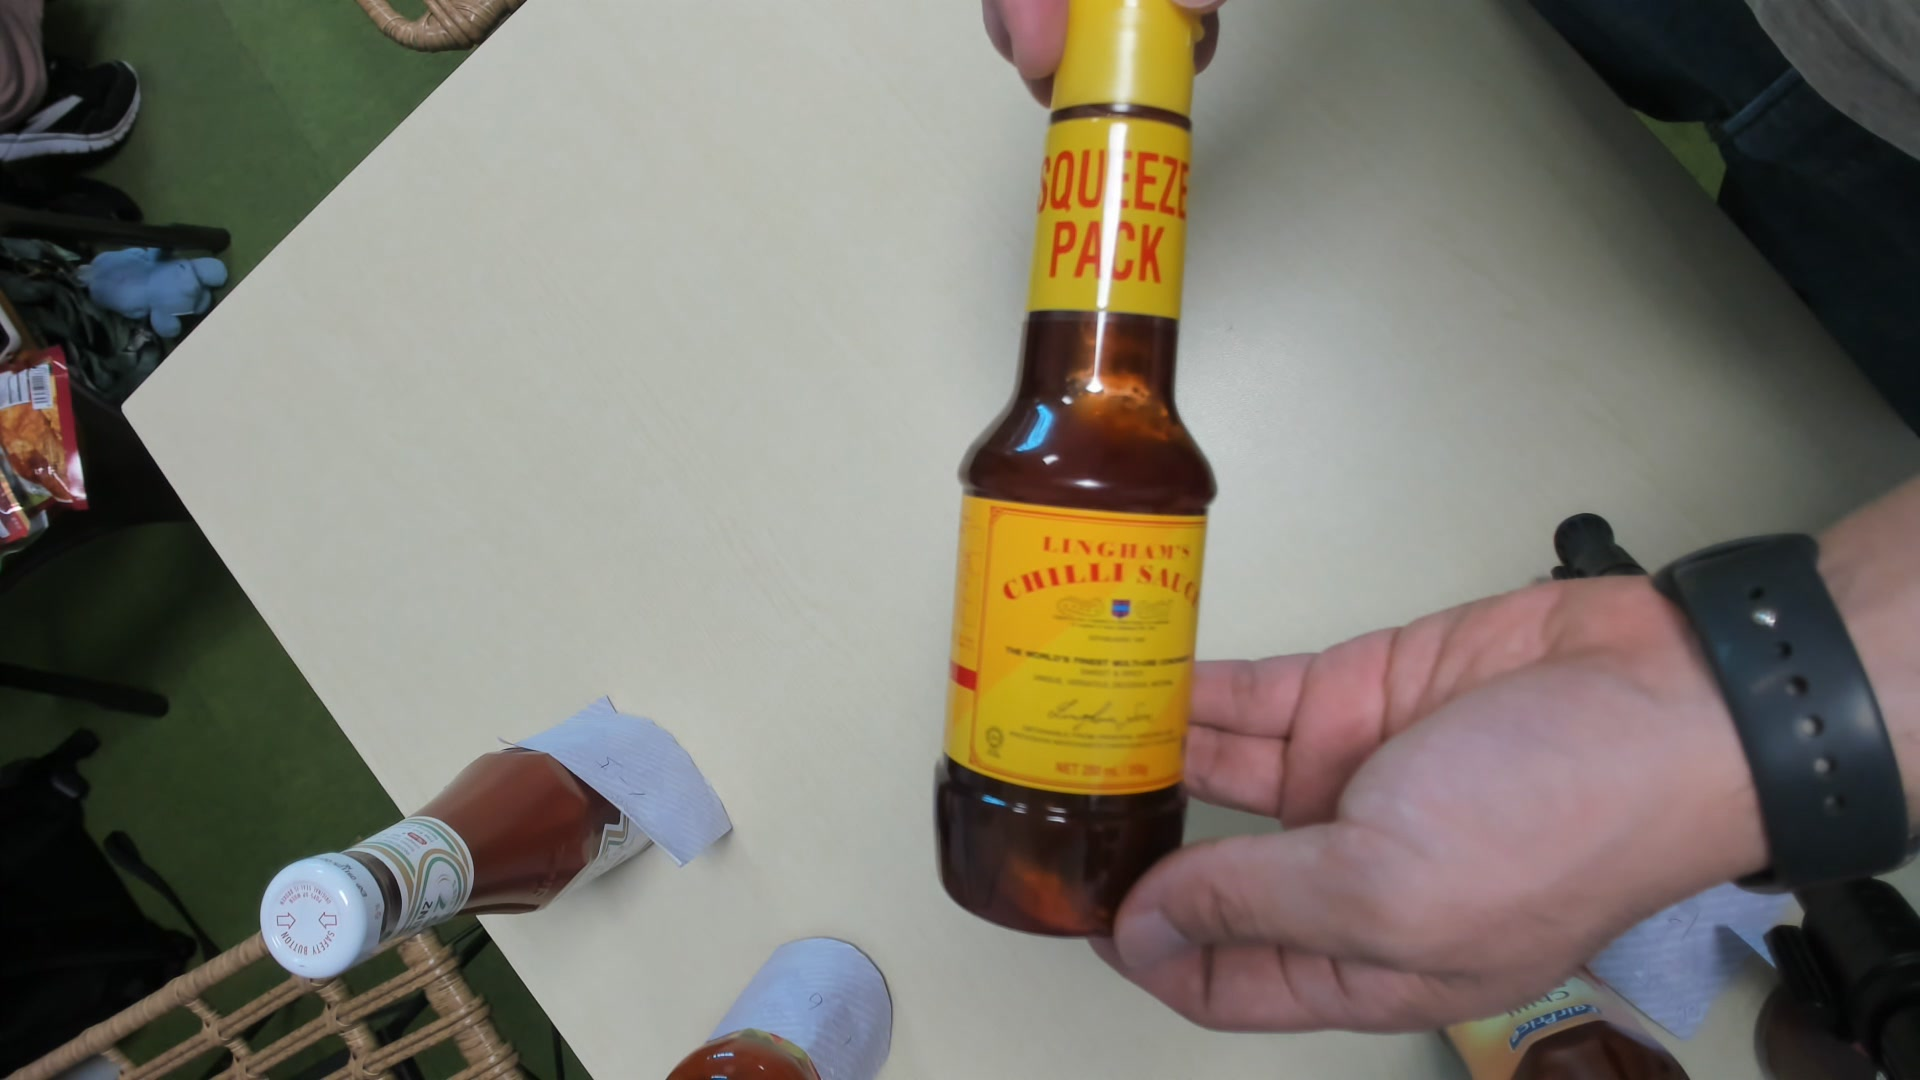KetchupChillSauce_300-399g_Halal_NonHealthy: (938, 5, 1207, 931)
